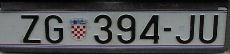-: (163, 26, 173, 33)
3: (93, 12, 112, 43)
4: (138, 13, 158, 45)
9: (117, 13, 135, 45)
G: (45, 14, 62, 45)
J: (175, 14, 194, 44)
U: (197, 13, 218, 44)
Z: (20, 14, 42, 44)
